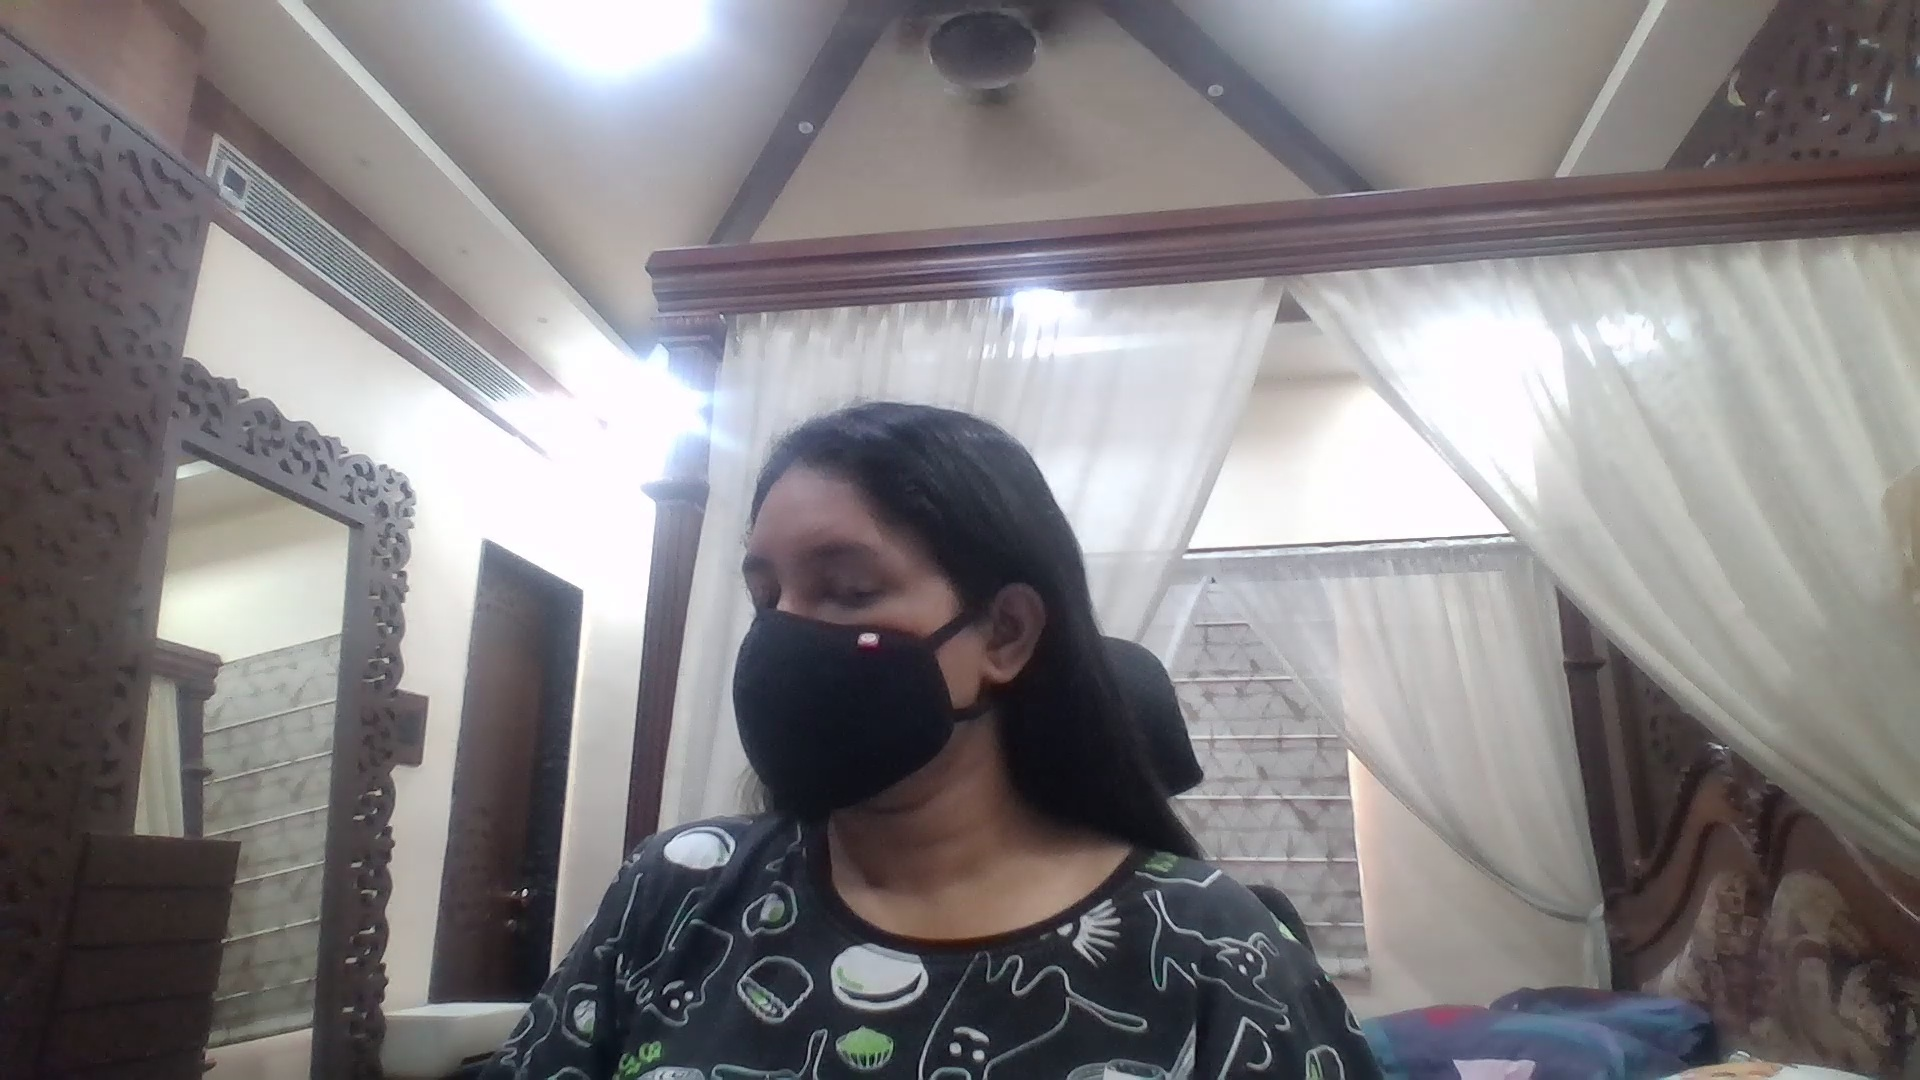Mask: (721, 617, 964, 817)
